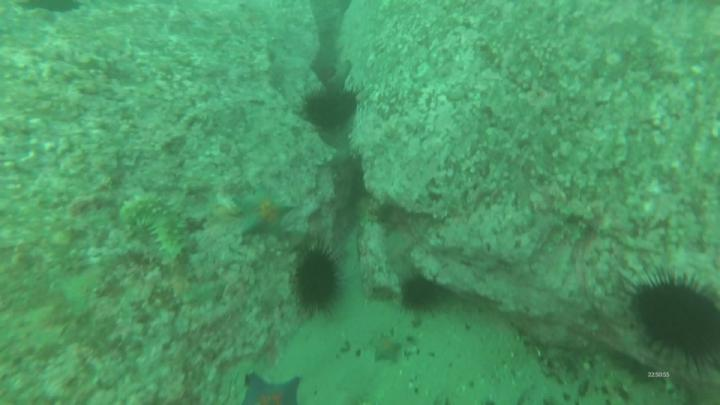echinus: (618, 261, 720, 383), (293, 240, 343, 320), (397, 275, 445, 319), (299, 90, 344, 130), (336, 89, 359, 122)
holothurian: (120, 194, 198, 266)
starfish: (231, 186, 300, 243), (241, 372, 307, 405), (370, 334, 403, 366)
